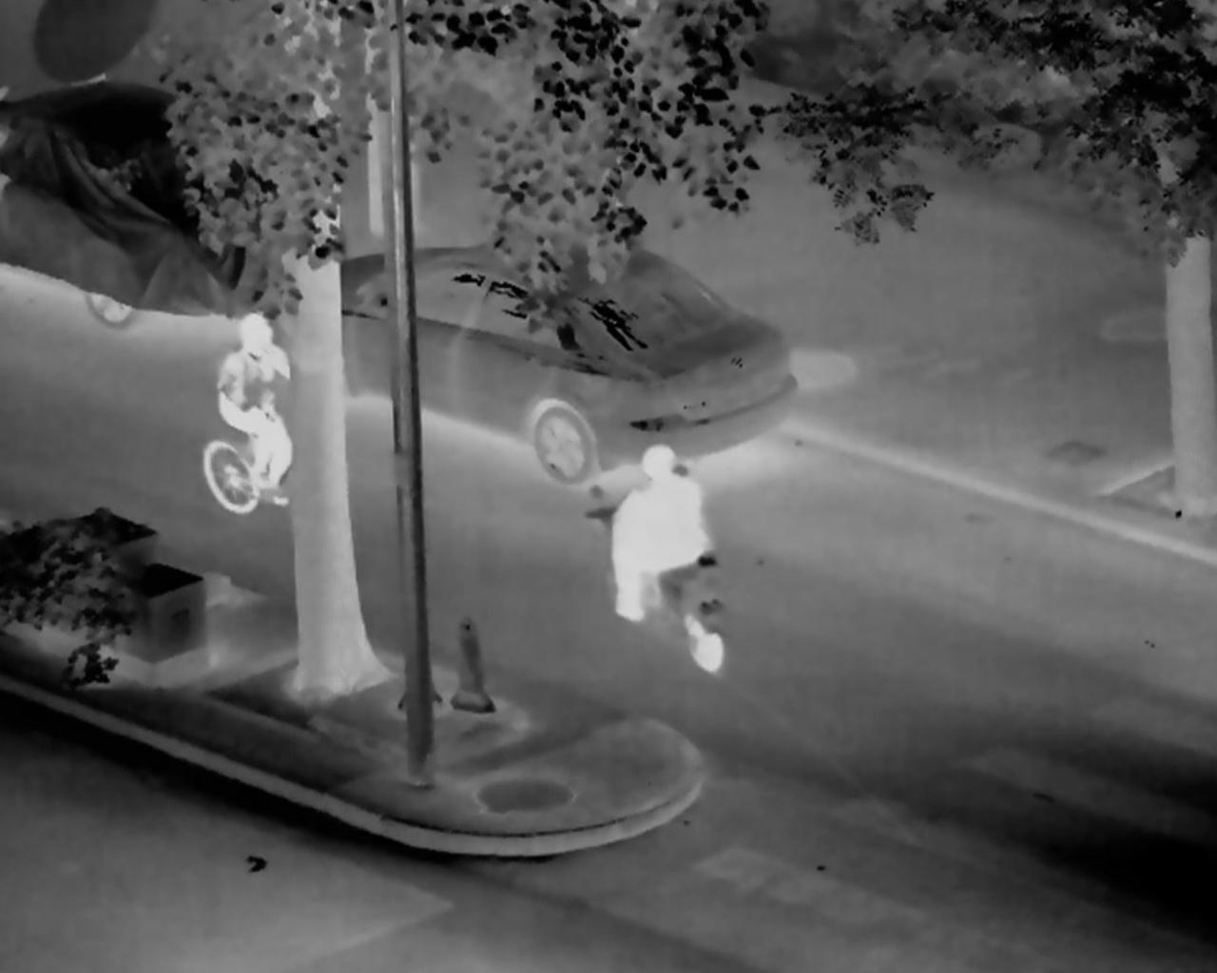person: (214, 315, 302, 506), (614, 446, 705, 620)
